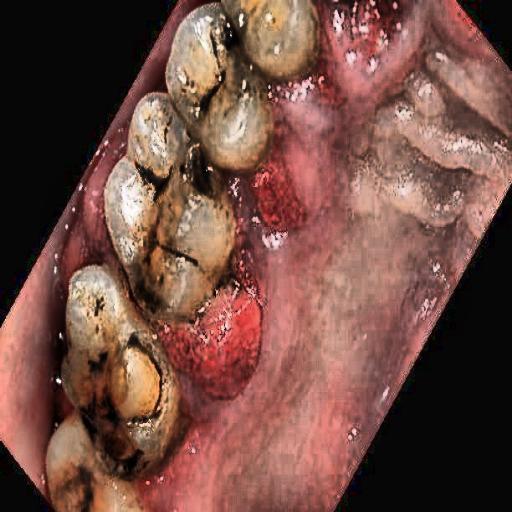Calculus: (94, 1, 254, 487)
